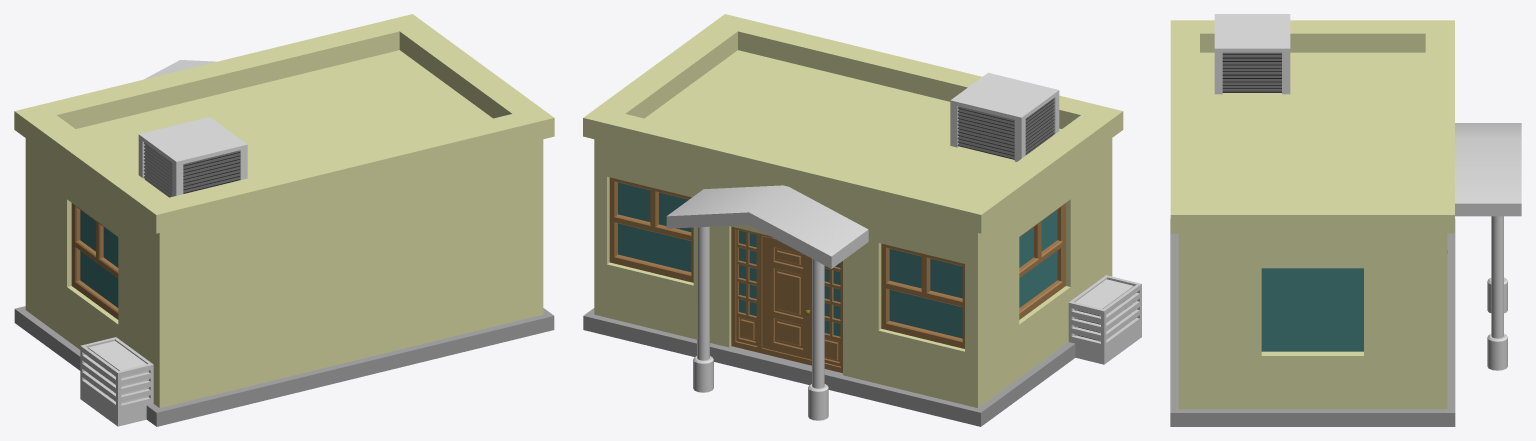
The model's file is cry_small house_02_dylan.fbx.
3 views of the same model, side by side, from view 1: azimuth 30°, elevation 25°; view 2: azimuth 150°, elevation 25°; view 3: azimuth 270°, elevation 25° (orthographic).
Visible parts, largest first — view 1: cry_small_house_02_dylan:cry_small_house_02_dylan:cry_small_; view 2: cry_small_house_02_dylan:cry_small_house_02_dylan:cry_small_; view 3: cry_small_house_02_dylan:cry_small_house_02_dylan:cry_small_.
Part boxes in pixels (bbox=[...]): cry_small_house_02_dylan:cry_small_house_02_dylan:cry_small_: bbox=[14, 14, 554, 426]; cry_small_house_02_dylan:cry_small_house_02_dylan:cry_small_: bbox=[583, 14, 1141, 426]; cry_small_house_02_dylan:cry_small_house_02_dylan:cry_small_: bbox=[1170, 14, 1521, 426].
Size of the model in its own units: 921 by 510 by 655.
